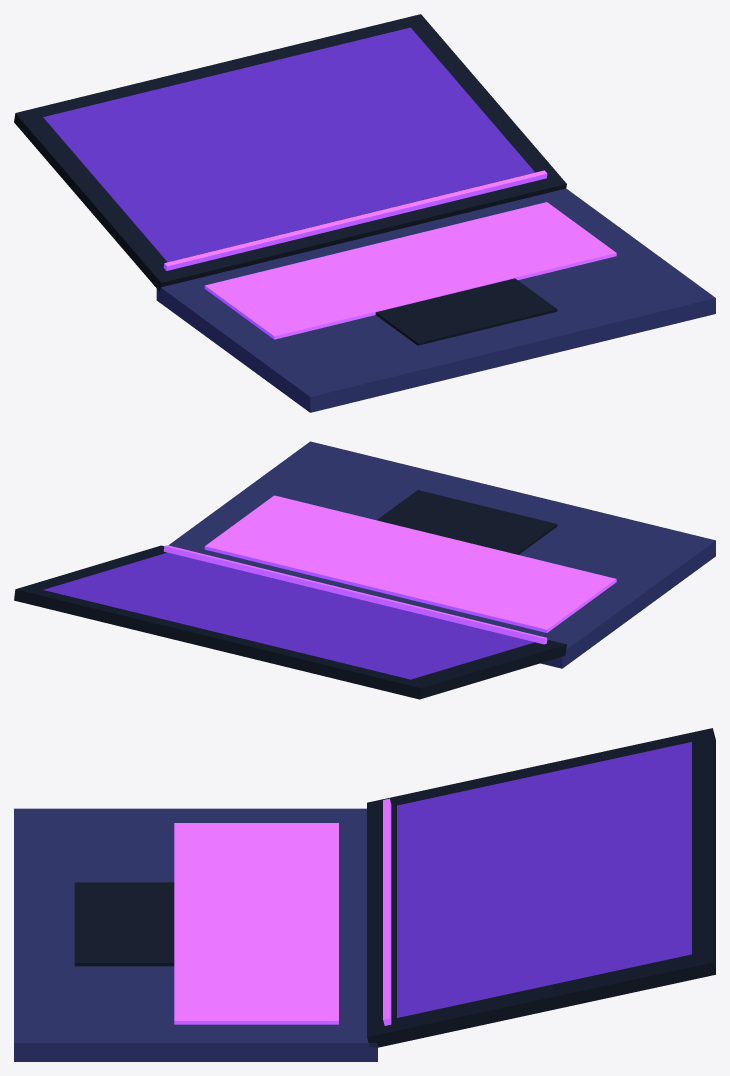
File: laptop.glb
3 renders of one model, top to bottom at view 1: azimuth 30°, elevation 25°; view 2: azimuth 150°, elevation 25°; view 3: azimuth 270°, elevation 25°, orthographic. The views are drawn at different scales.
Visible parts, largest first — view 1: Screen, Base, Keyboard, Bezel, Trackpad, Rim; view 2: Base, Screen, Keyboard, Bezel, Trackpad, Rim; view 3: Screen, Base, Keyboard, Bezel, Trackpad, Rim.
Boxes of the visible parts, bbox=[...] form: Screen: bbox=[43, 27, 534, 261]; Base: bbox=[156, 188, 715, 412]; Keyboard: bbox=[204, 202, 616, 339]; Bezel: bbox=[14, 14, 566, 291]; Trackpad: bbox=[375, 278, 557, 345]; Rim: bbox=[163, 170, 547, 270]; Base: bbox=[168, 441, 715, 668]; Screen: bbox=[43, 552, 534, 679]; Keyboard: bbox=[204, 495, 616, 632]; Bezel: bbox=[14, 545, 566, 699]; Trackpad: bbox=[377, 490, 557, 554]; Rim: bbox=[163, 545, 547, 644]; Screen: bbox=[397, 742, 691, 1017]; Base: bbox=[14, 808, 377, 1061]; Keyboard: bbox=[174, 823, 338, 1024]; Bezel: bbox=[367, 728, 715, 1047]; Trackpad: bbox=[74, 882, 174, 966]; Rim: bbox=[383, 798, 391, 1025].
Size of the model in its own units: 3.2 by 0.633 by 4.05.
